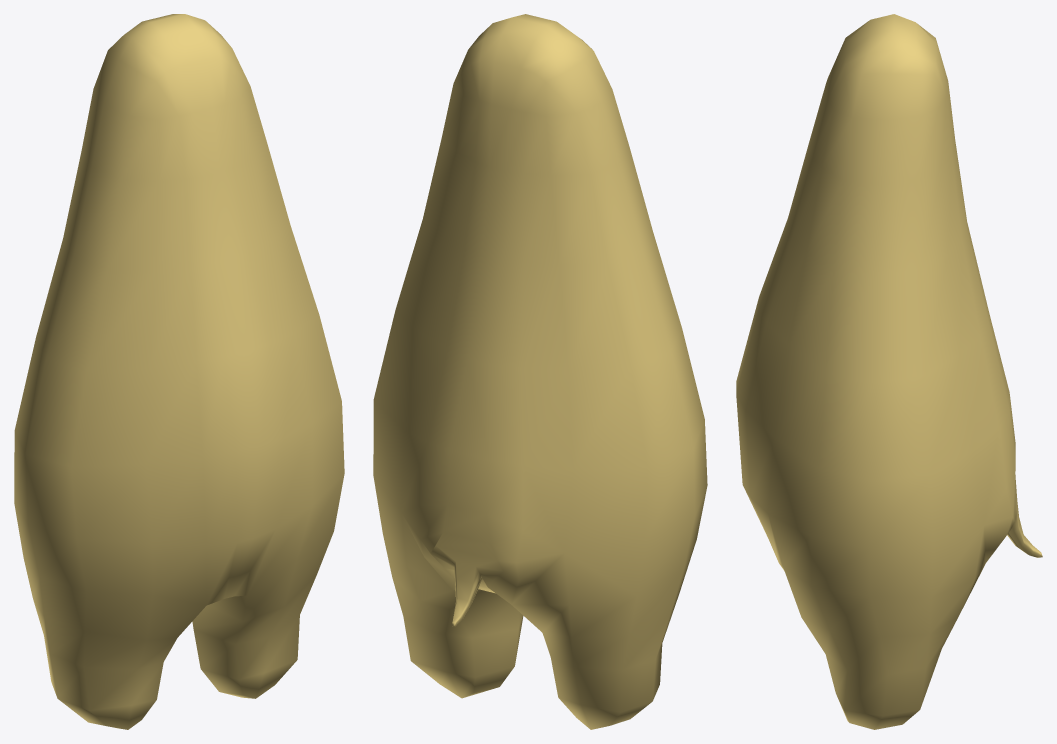
The model's file is people.fbx.
3 views of the same model, side by side, from view 1: azimuth 30°, elevation 25°; view 2: azimuth 150°, elevation 25°; view 3: azimuth 270°, elevation 25° (orthographic). The views are drawn at different scales.
Parts seen in each view (by area): view 1: people; view 2: people; view 3: people.
Boxes of the visible parts, x1,y1,x2,y2 form: people: (14,14,344,729); people: (373,14,707,729); people: (736,14,1042,729).
Size of the model in its own units: 0.7217 by 1.55 by 0.6375.
